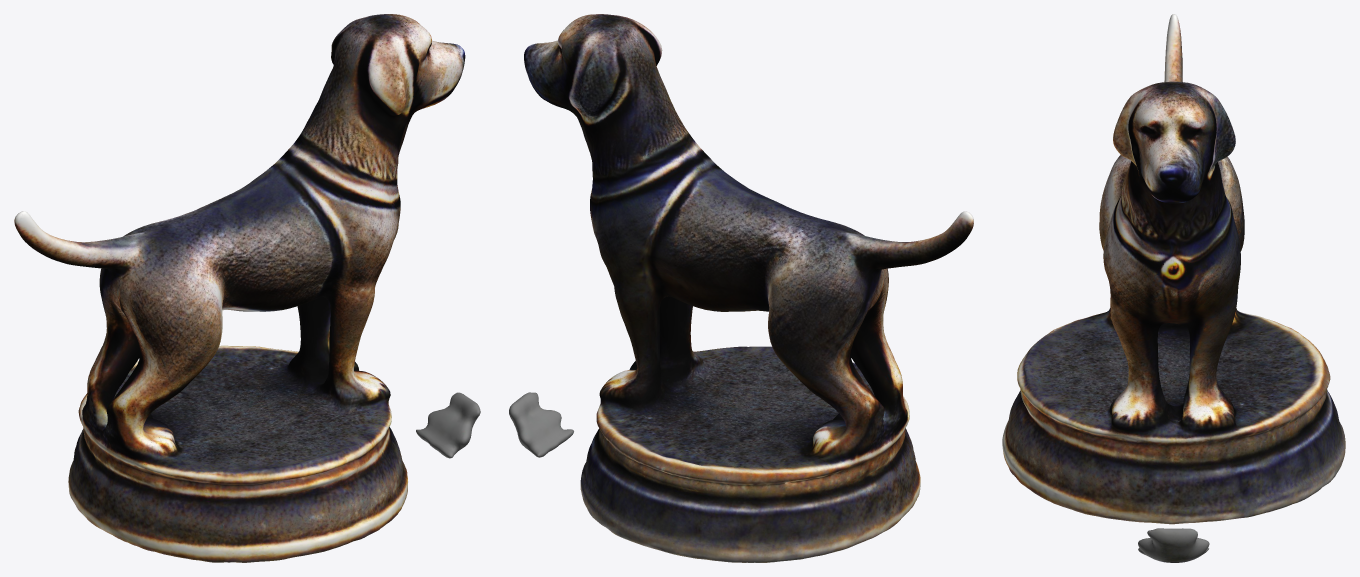
Rendered from Pawn-LabradorRetriever2.glb.
3 views of the same model, side by side, from view 1: azimuth 30°, elevation 25°; view 2: azimuth 150°, elevation 25°; view 3: azimuth 270°, elevation 25° (orthographic).
Parts seen in each view (by area): view 1: high_poly; view 2: high_poly; view 3: high_poly.
Boxes of the visible parts, <box> form: high_poly: <box>14,14,480,562</box>; high_poly: <box>509,14,973,562</box>; high_poly: <box>1002,14,1345,562</box>.
Bounding box in the file's own units: 1 × 0.926 × 0.6473.
Materials: 1 (1 with a texture image).
